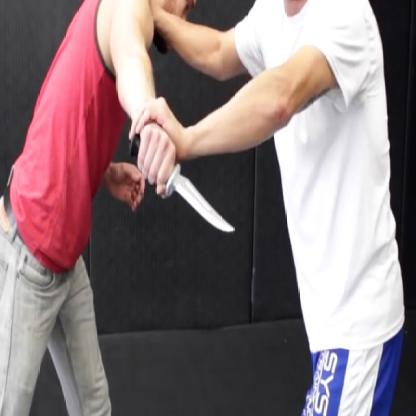knife: (122, 119, 244, 253)
